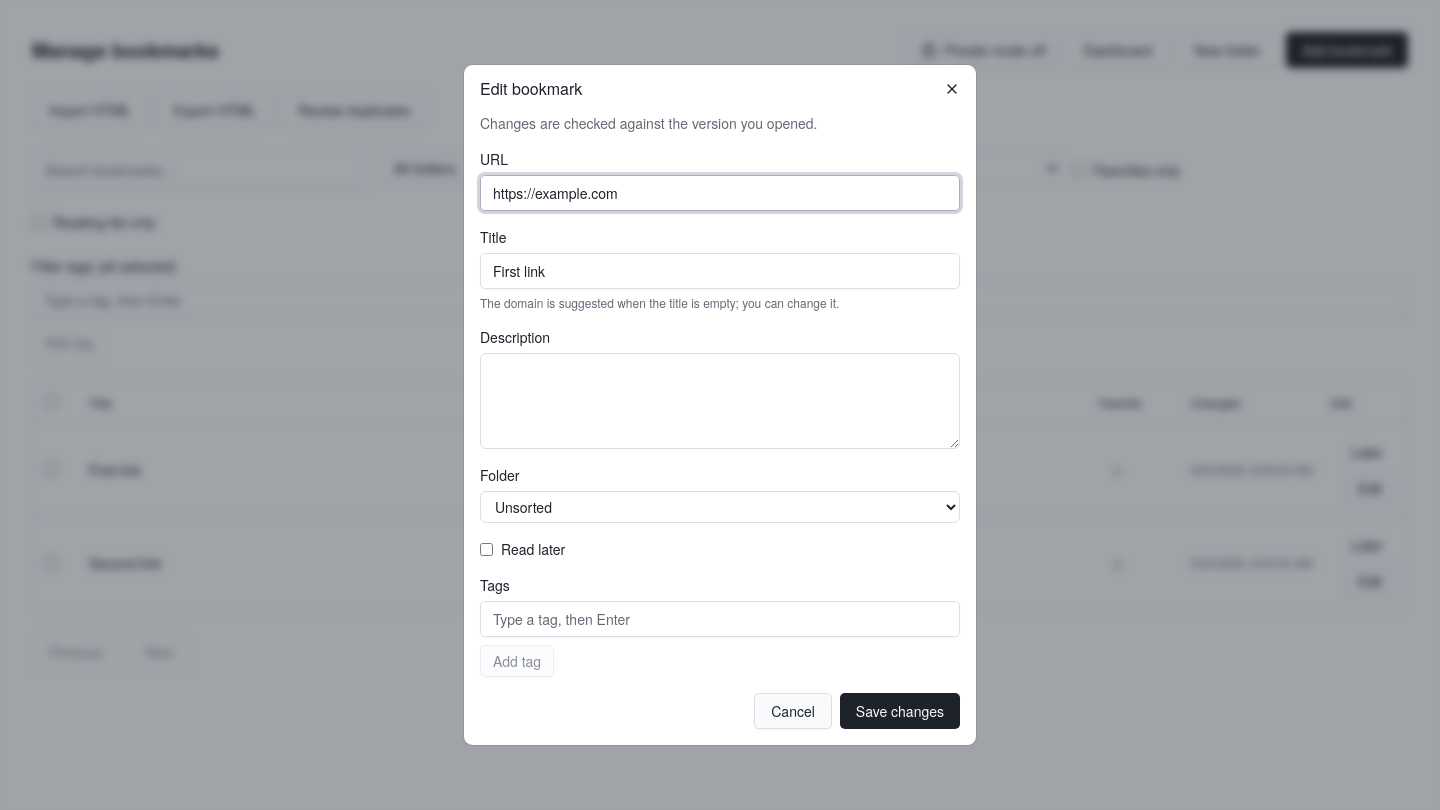
Scenario: keeps edits on a stale direct-link version instead of overwriting another writer
This screenshot has width=1440, height=810.
Replace the text in the field labelled "Title" with "My unsaved edit". click: (720,271)
box: [480,253,960,289]
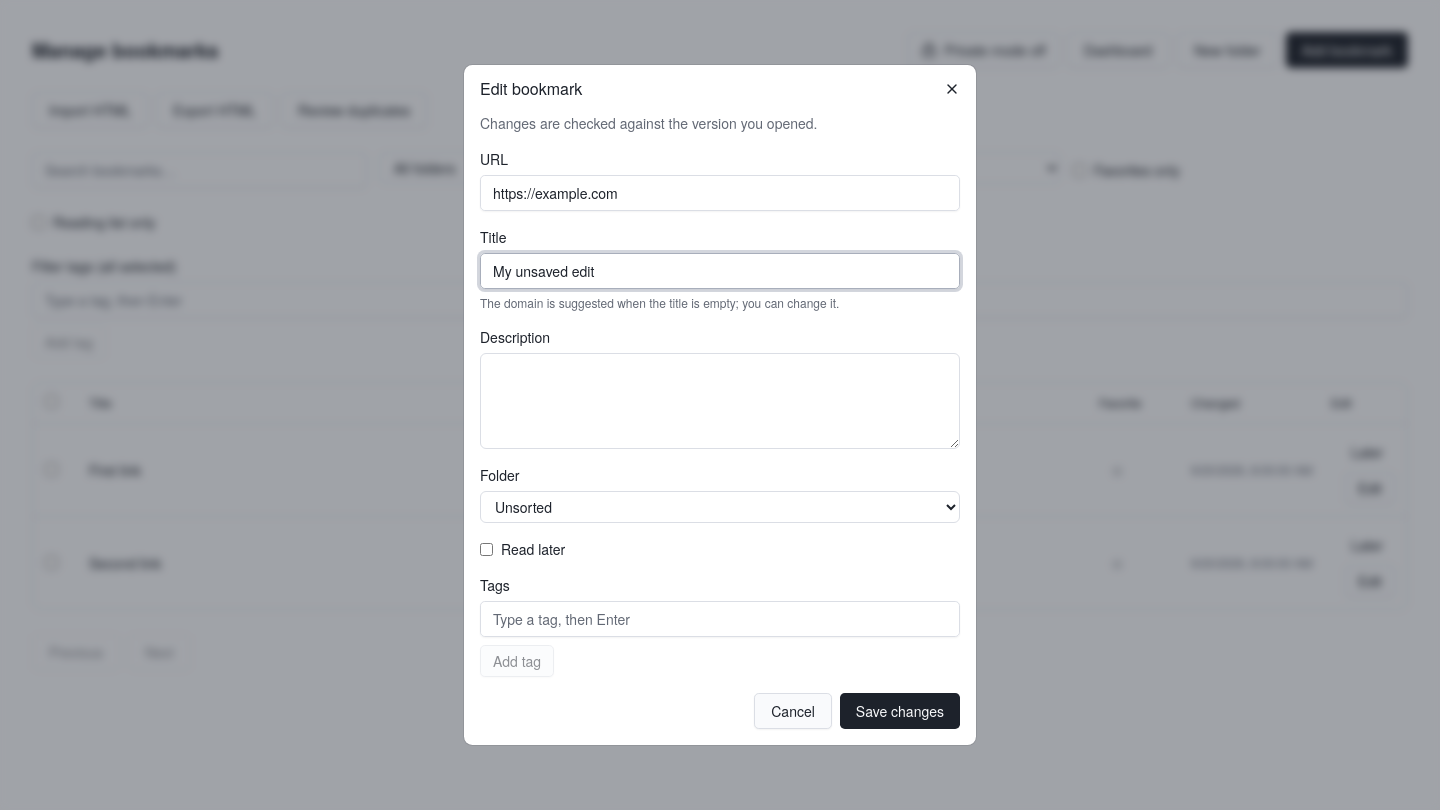
Click the button "Save changes". click: (900,711)
box: [840,693,960,729]
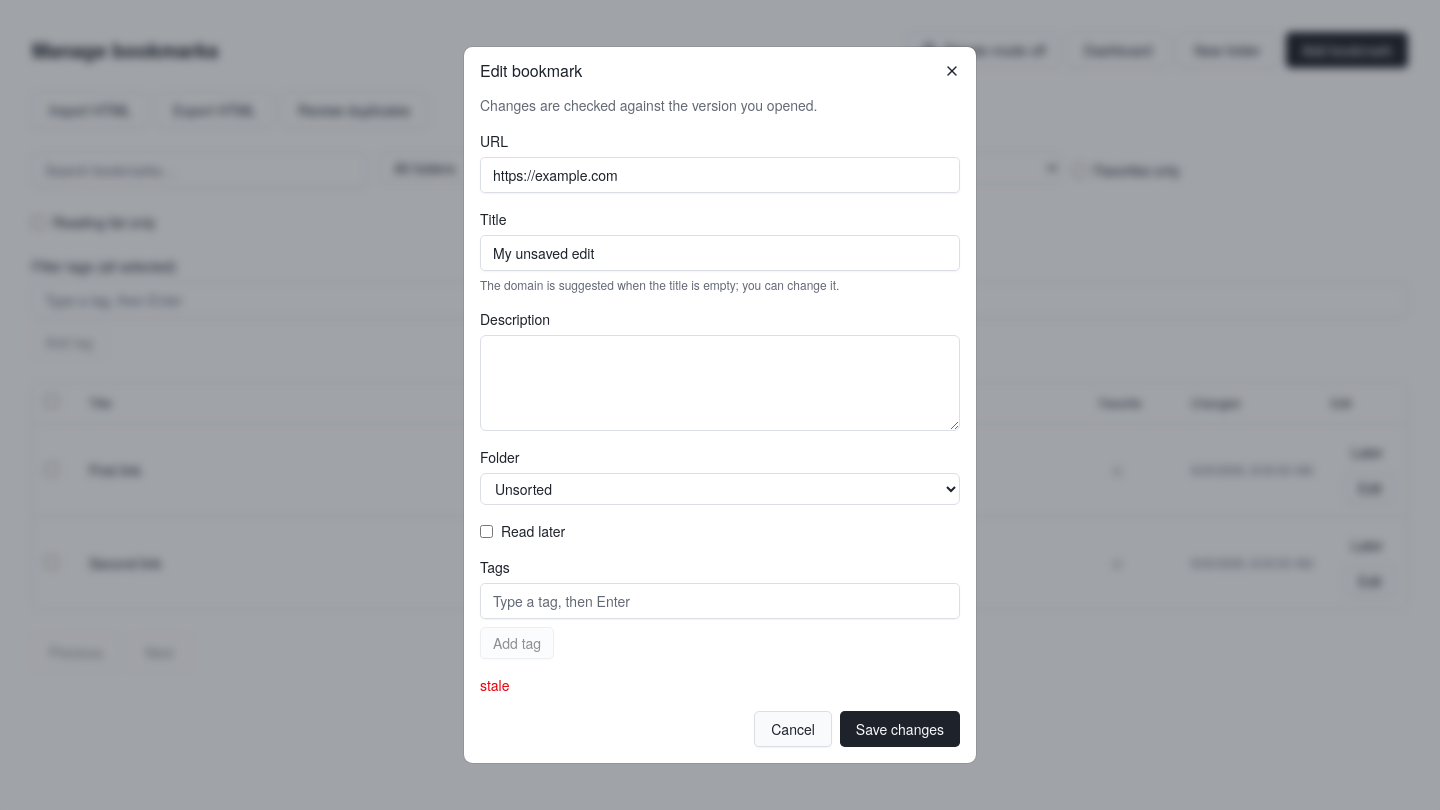
Check: the message "stale" is shown, box [480,675,510,695]
